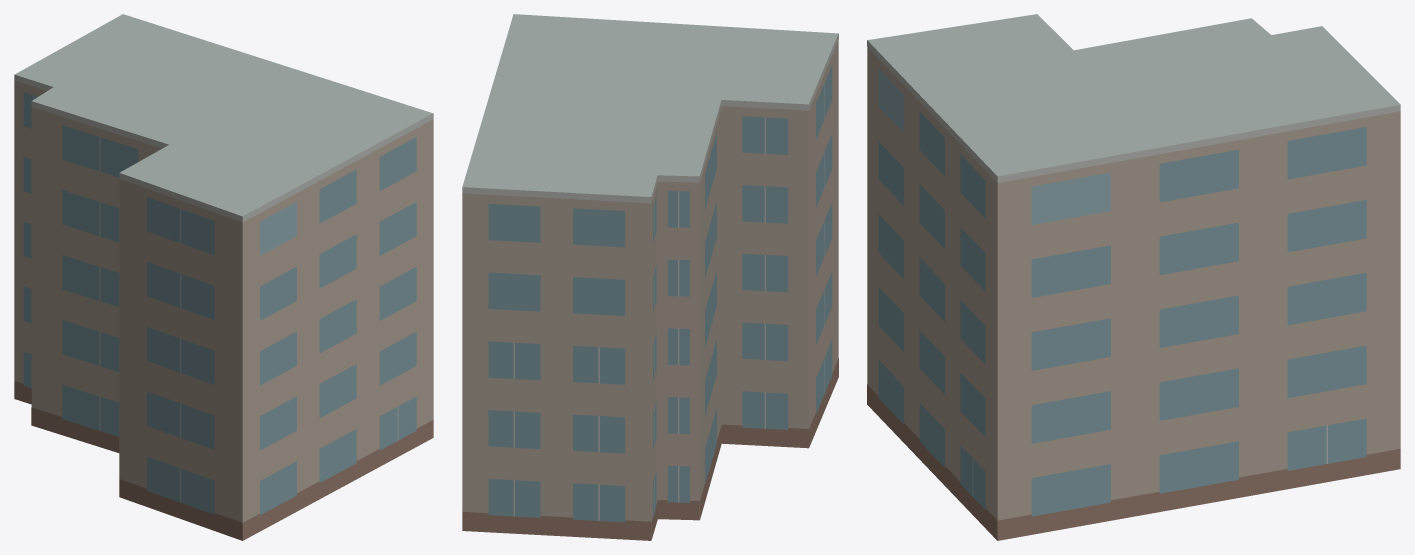
The model's file is survey-upis-32571520.glb.
3 renders of one model, left to right at view 1: azimuth 30°, elevation 25°; view 2: azimuth 150°, elevation 25°; view 3: azimuth 270°, elevation 25°, orthographic. The views are drawn at different scales.
Parts seen in each view (by area): view 1: survey-upis-32571520.tmp; view 2: survey-upis-32571520.tmp; view 3: survey-upis-32571520.tmp.
Boxes of the visible parts, x1,y1,x2,y2 form: survey-upis-32571520.tmp: (14,14,433,540); survey-upis-32571520.tmp: (462,14,838,540); survey-upis-32571520.tmp: (867,14,1400,540).
Size of the model in its own units: 12.85 by 13.43 by 17.83.
